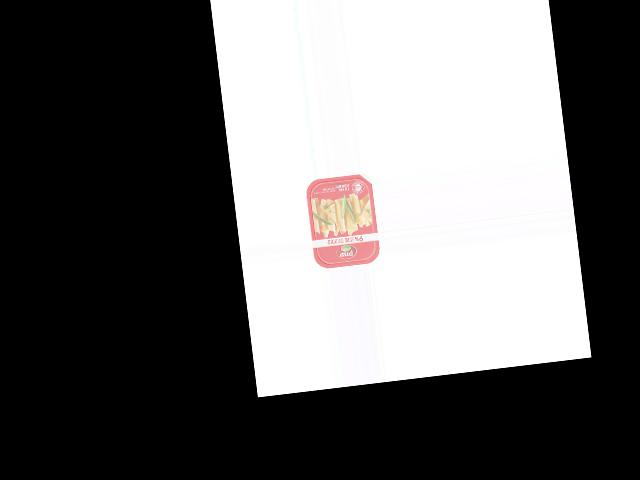cheese: (303, 172, 380, 270)
